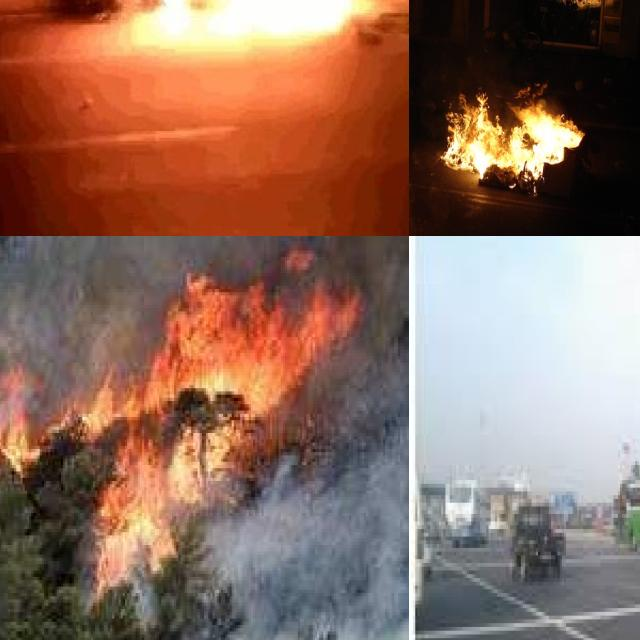fire: (0, 247, 363, 624), (444, 83, 584, 181)
smoke: (152, 385, 409, 640), (0, 236, 146, 394), (314, 236, 409, 372)
